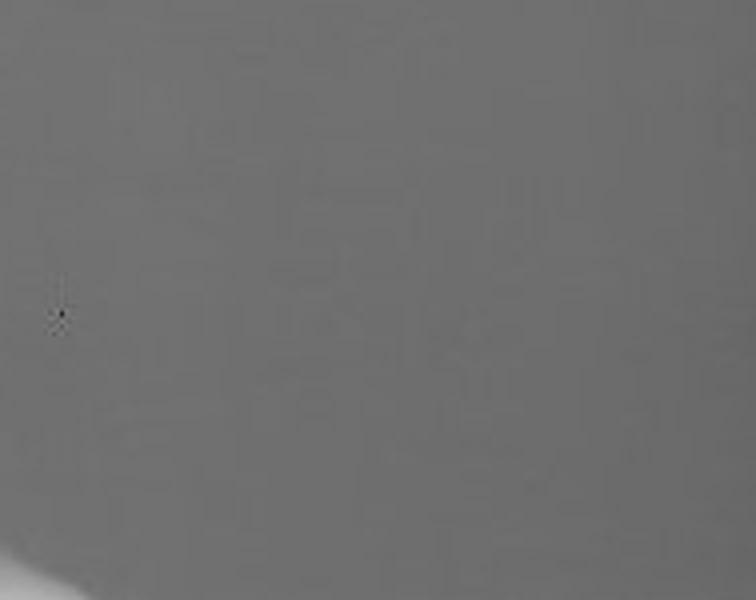defect: (56, 306, 71, 321)
